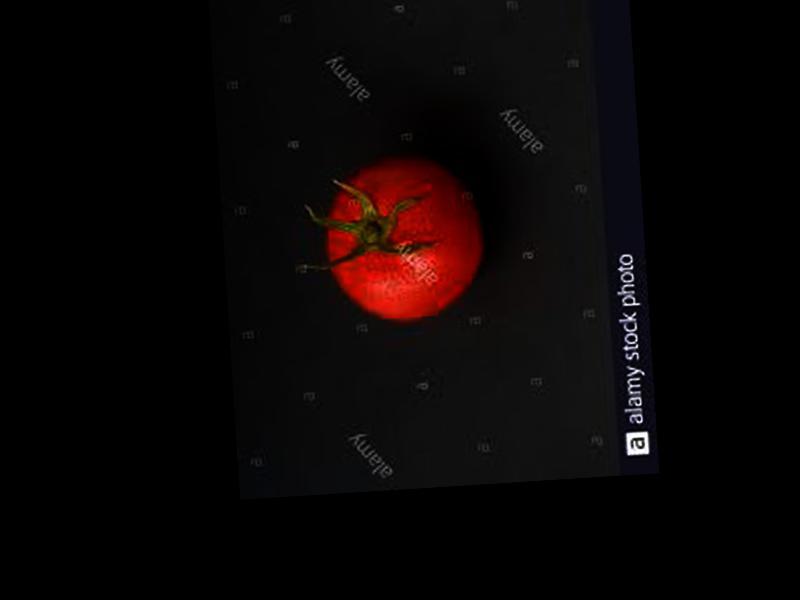Tomato: (319, 150, 483, 326)
